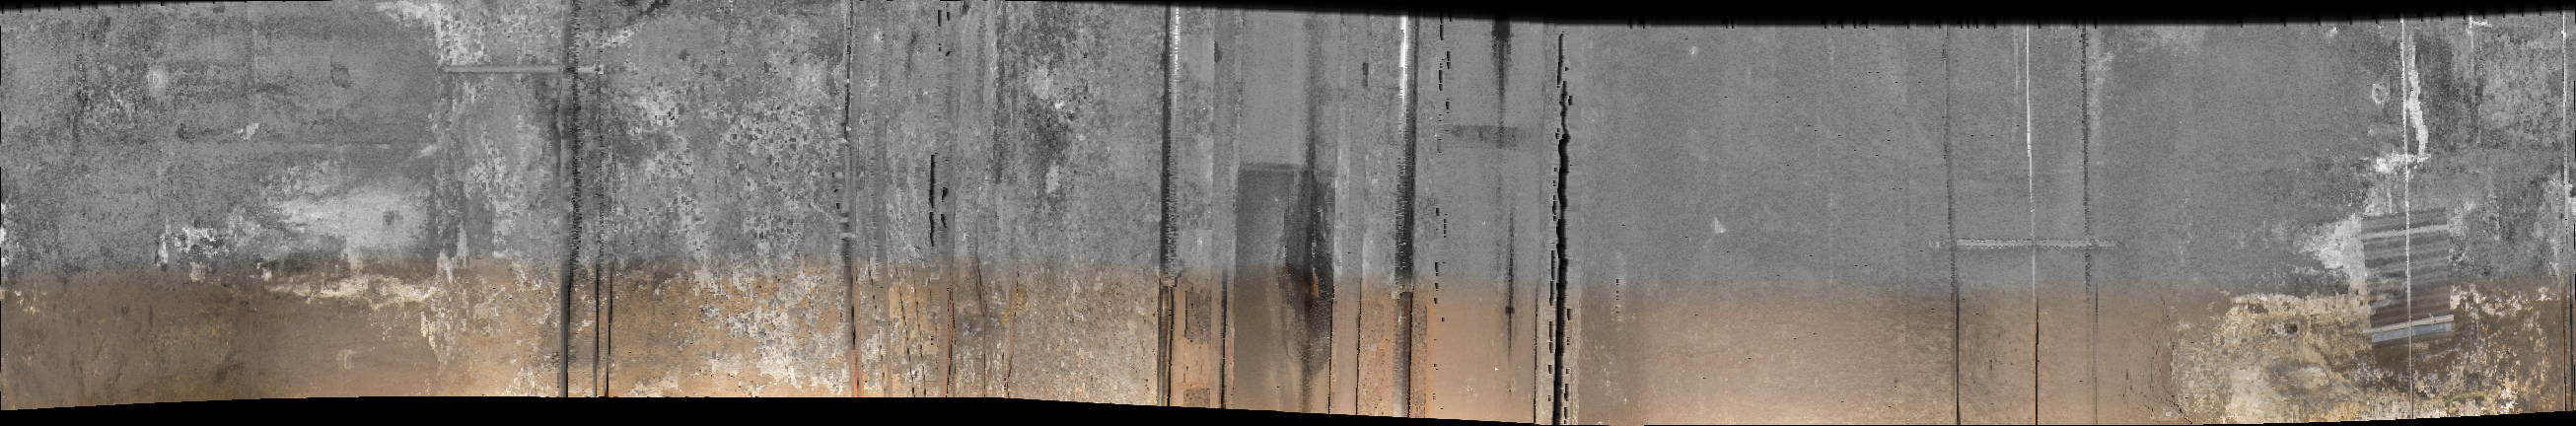pipes: (2078, 21, 2106, 426), (2019, 35, 2047, 426), (1940, 20, 1967, 426)
tracks: (1035, 2, 1556, 411)
